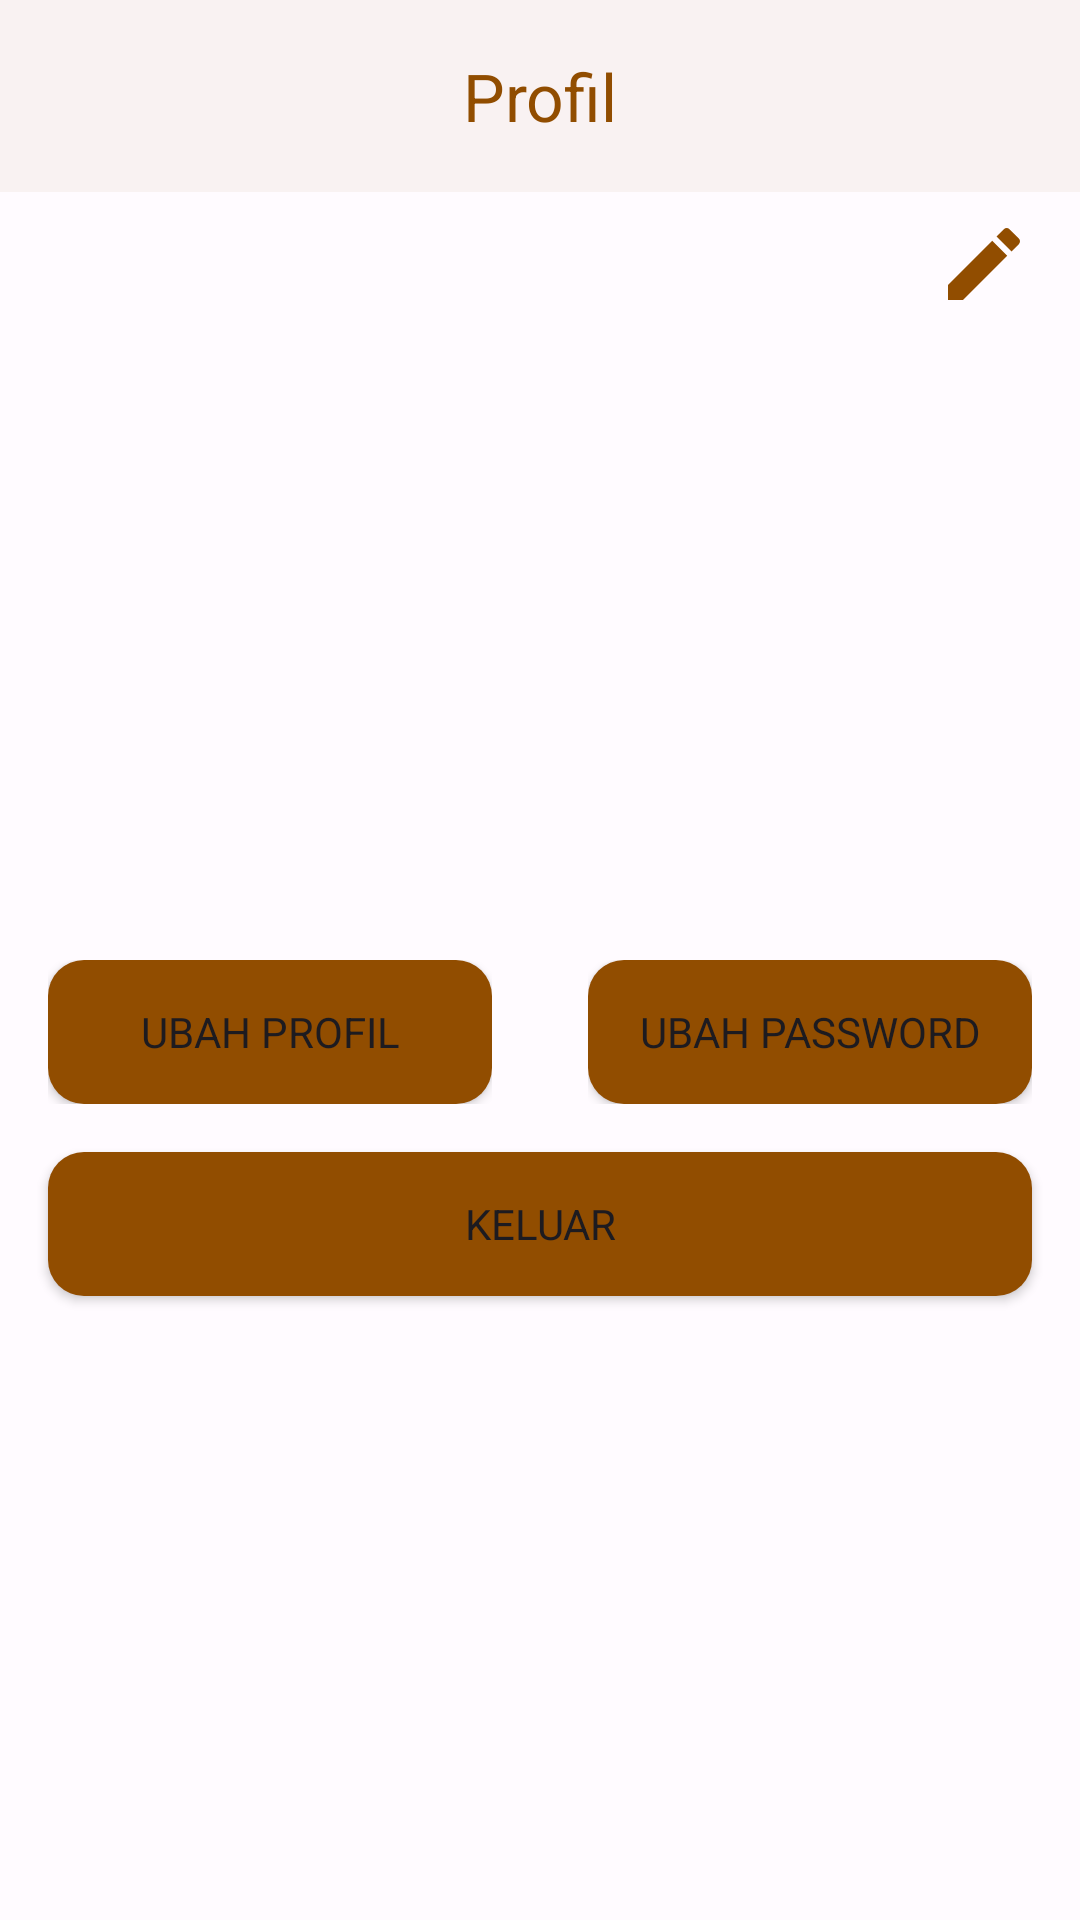

Named icons in this screenshot (1080×1920) and their centers, (x=x, y=y):
edit: (x=984, y=264)
